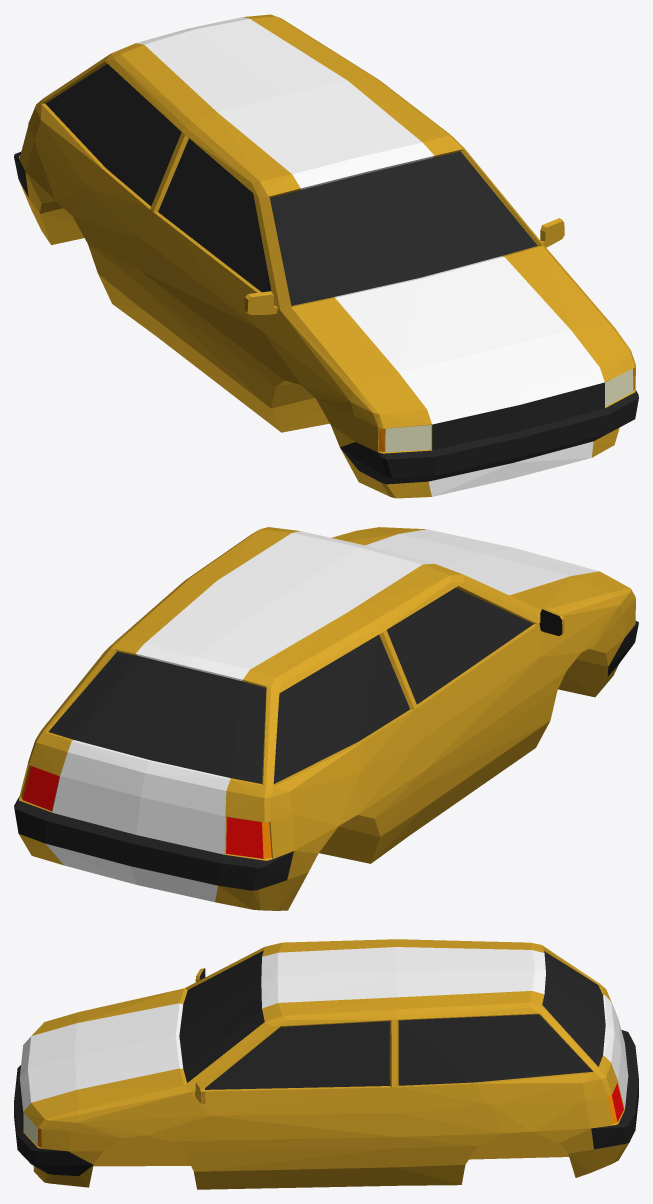
The model's file is Proto_Vehicle_Car_Body_01.fbx.
The picture shows the model from 3 angles, top to bottom: view 1: azimuth 30°, elevation 25°; view 2: azimuth 150°, elevation 25°; view 3: azimuth 270°, elevation 25°; orthographic projection. The views are drawn at different scales.
Visible parts, largest first — view 1: Proto_Vehicle_Car_Body_01; view 2: Proto_Vehicle_Car_Body_01; view 3: Proto_Vehicle_Car_Body_01.
Boxes of the visible parts, bbox=[...] form: Proto_Vehicle_Car_Body_01: bbox=[14, 14, 638, 498]; Proto_Vehicle_Car_Body_01: bbox=[14, 527, 638, 910]; Proto_Vehicle_Car_Body_01: bbox=[14, 939, 638, 1189].
Size of the model in its own units: 1.96 by 1.3 by 4.21.
